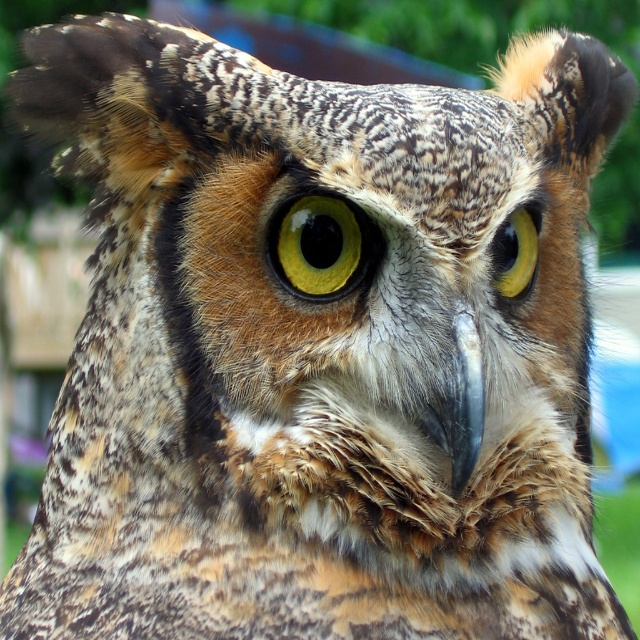Owl: (0, 6, 640, 638)
